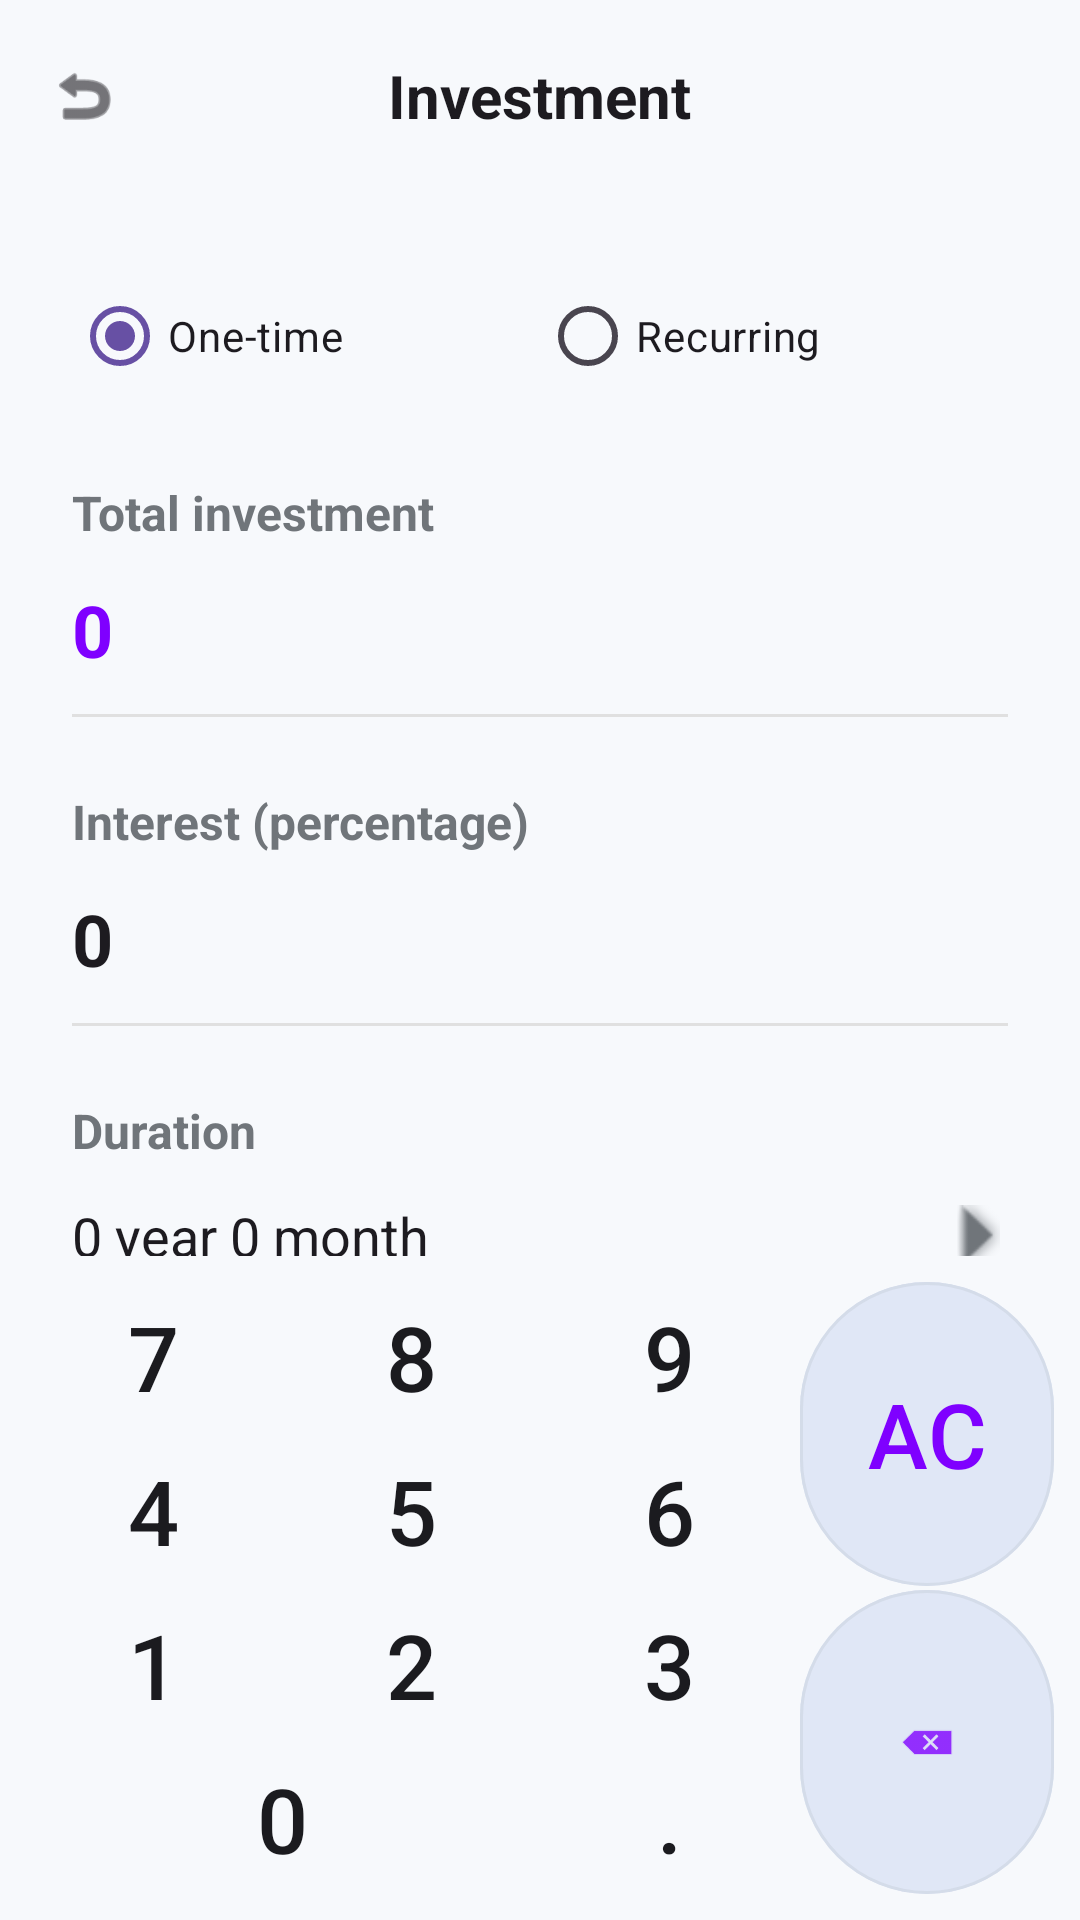

Icon click points for this 1080×1920 phone screenshot, format (x=x, y=y):
delete: (x=927, y=1742)
revert: (x=85, y=96)
